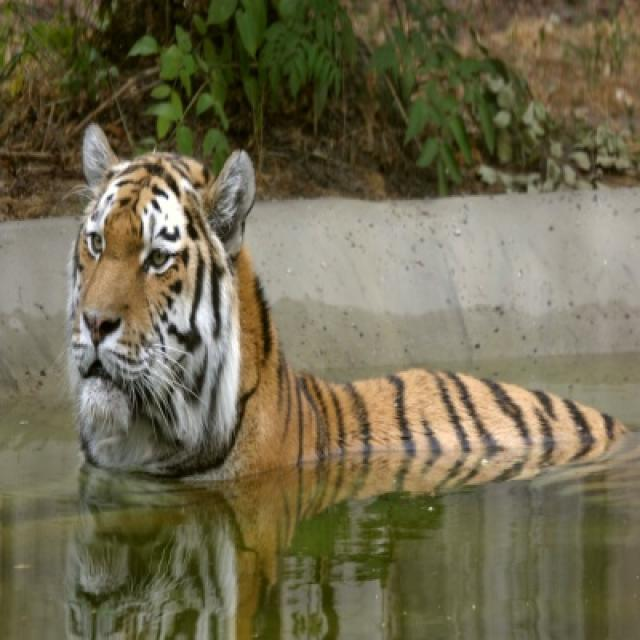Tiger: (62, 117, 630, 486)
